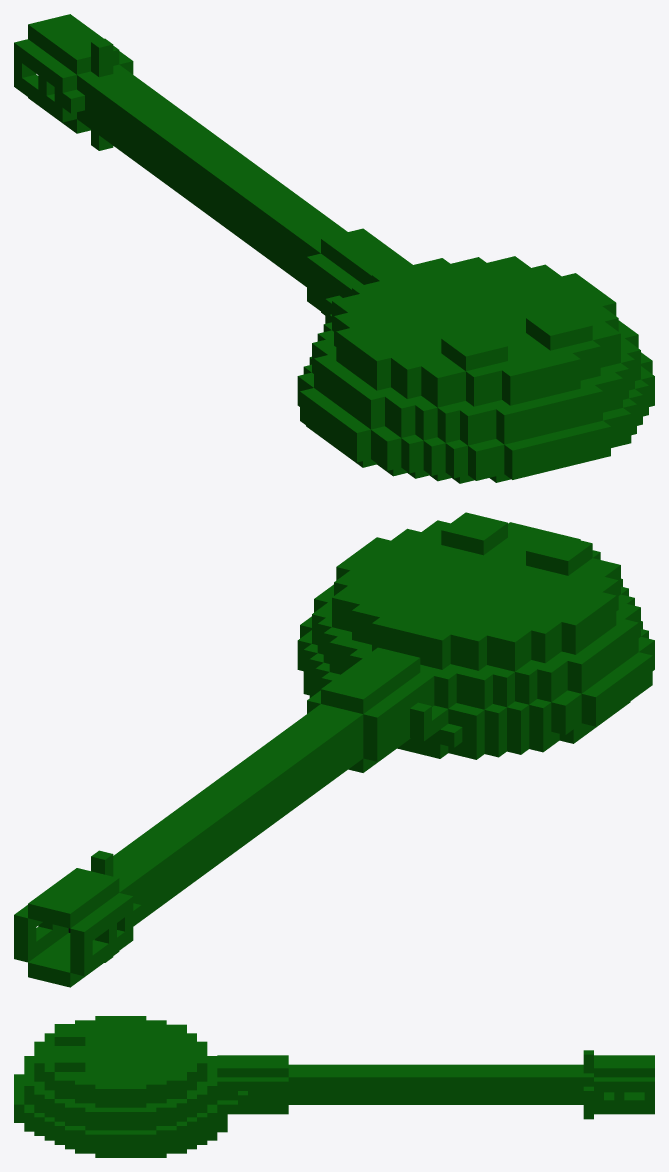
Rendered from MainTankHead.fbx.
The picture shows the model from 3 angles, top to bottom: view 1: azimuth 30°, elevation 25°; view 2: azimuth 150°, elevation 25°; view 3: azimuth 270°, elevation 25°; orthographic projection. The views are drawn at different scales.
Parts seen in each view (by area): view 1: imagetostl_mesh3, imagetostl_mesh4; view 2: imagetostl_mesh3, imagetostl_mesh4; view 3: imagetostl_mesh3, imagetostl_mesh4.
Part boxes in pixels (x1,y1,x2,y2): imagetostl_mesh3: (297,256,654,483); imagetostl_mesh4: (14,14,412,315); imagetostl_mesh3: (297,512,654,759); imagetostl_mesh4: (14,647,434,987); imagetostl_mesh3: (14,1016,247,1157); imagetostl_mesh4: (217,1050,654,1119).
Bounding box in the file's own units: 12.6 × 4.8 × 37.8.
